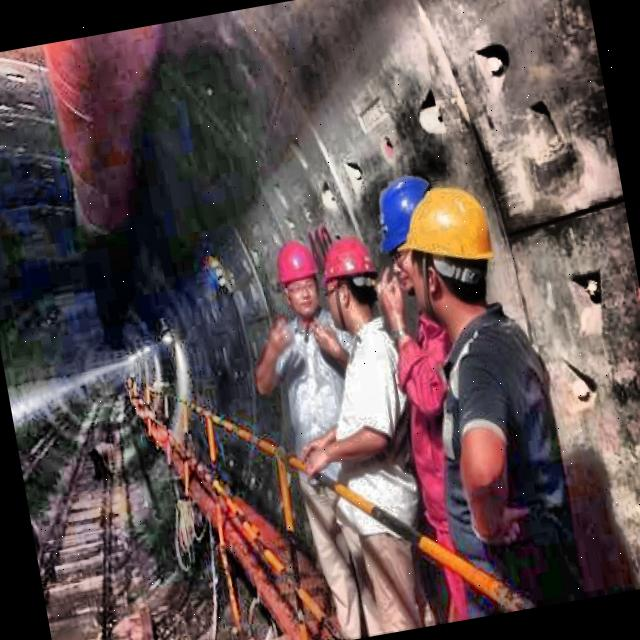helmet: (391, 178, 502, 334), (380, 178, 453, 296), (316, 229, 386, 336), (268, 234, 329, 325)
